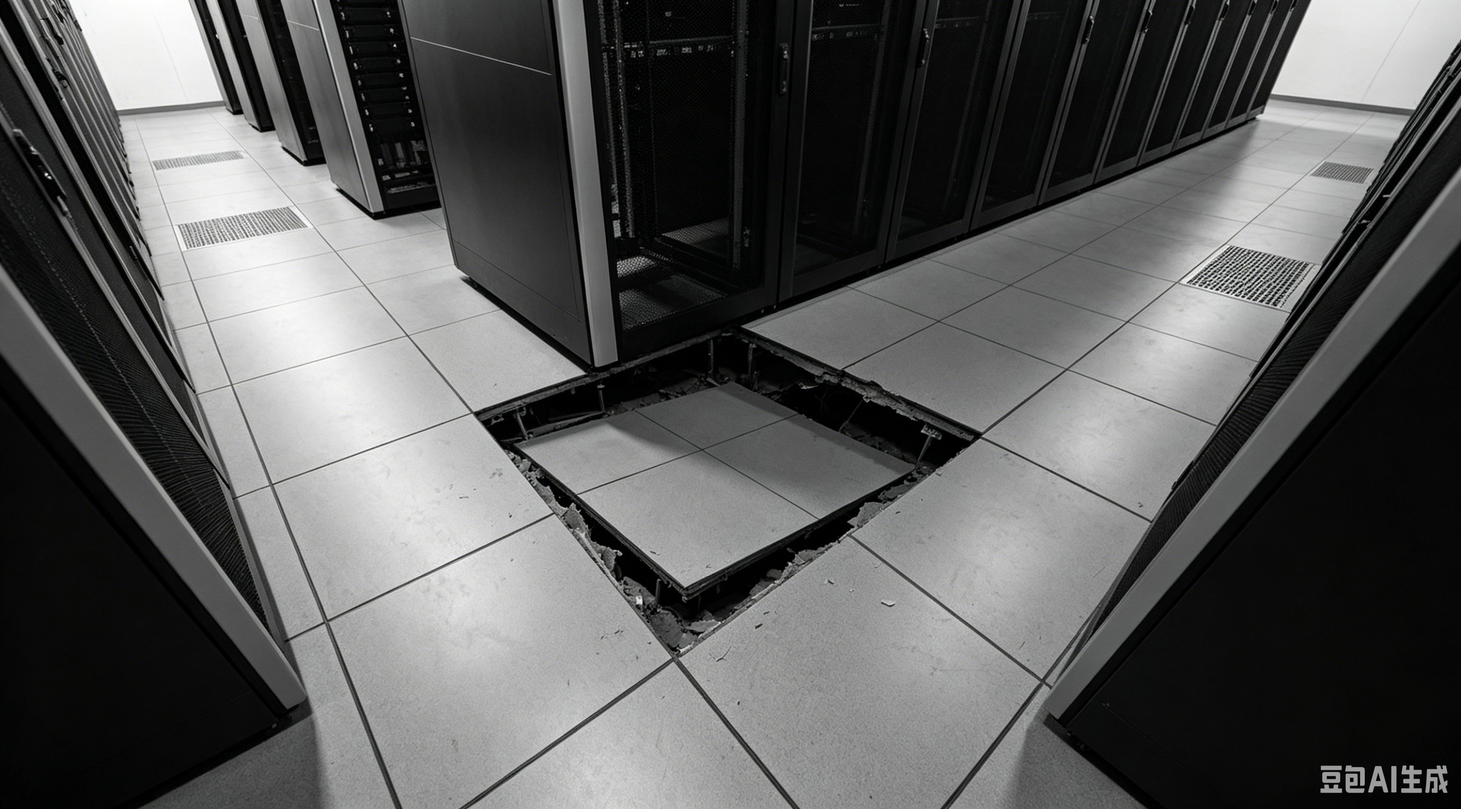floor_defect: (466, 305, 1012, 649)
